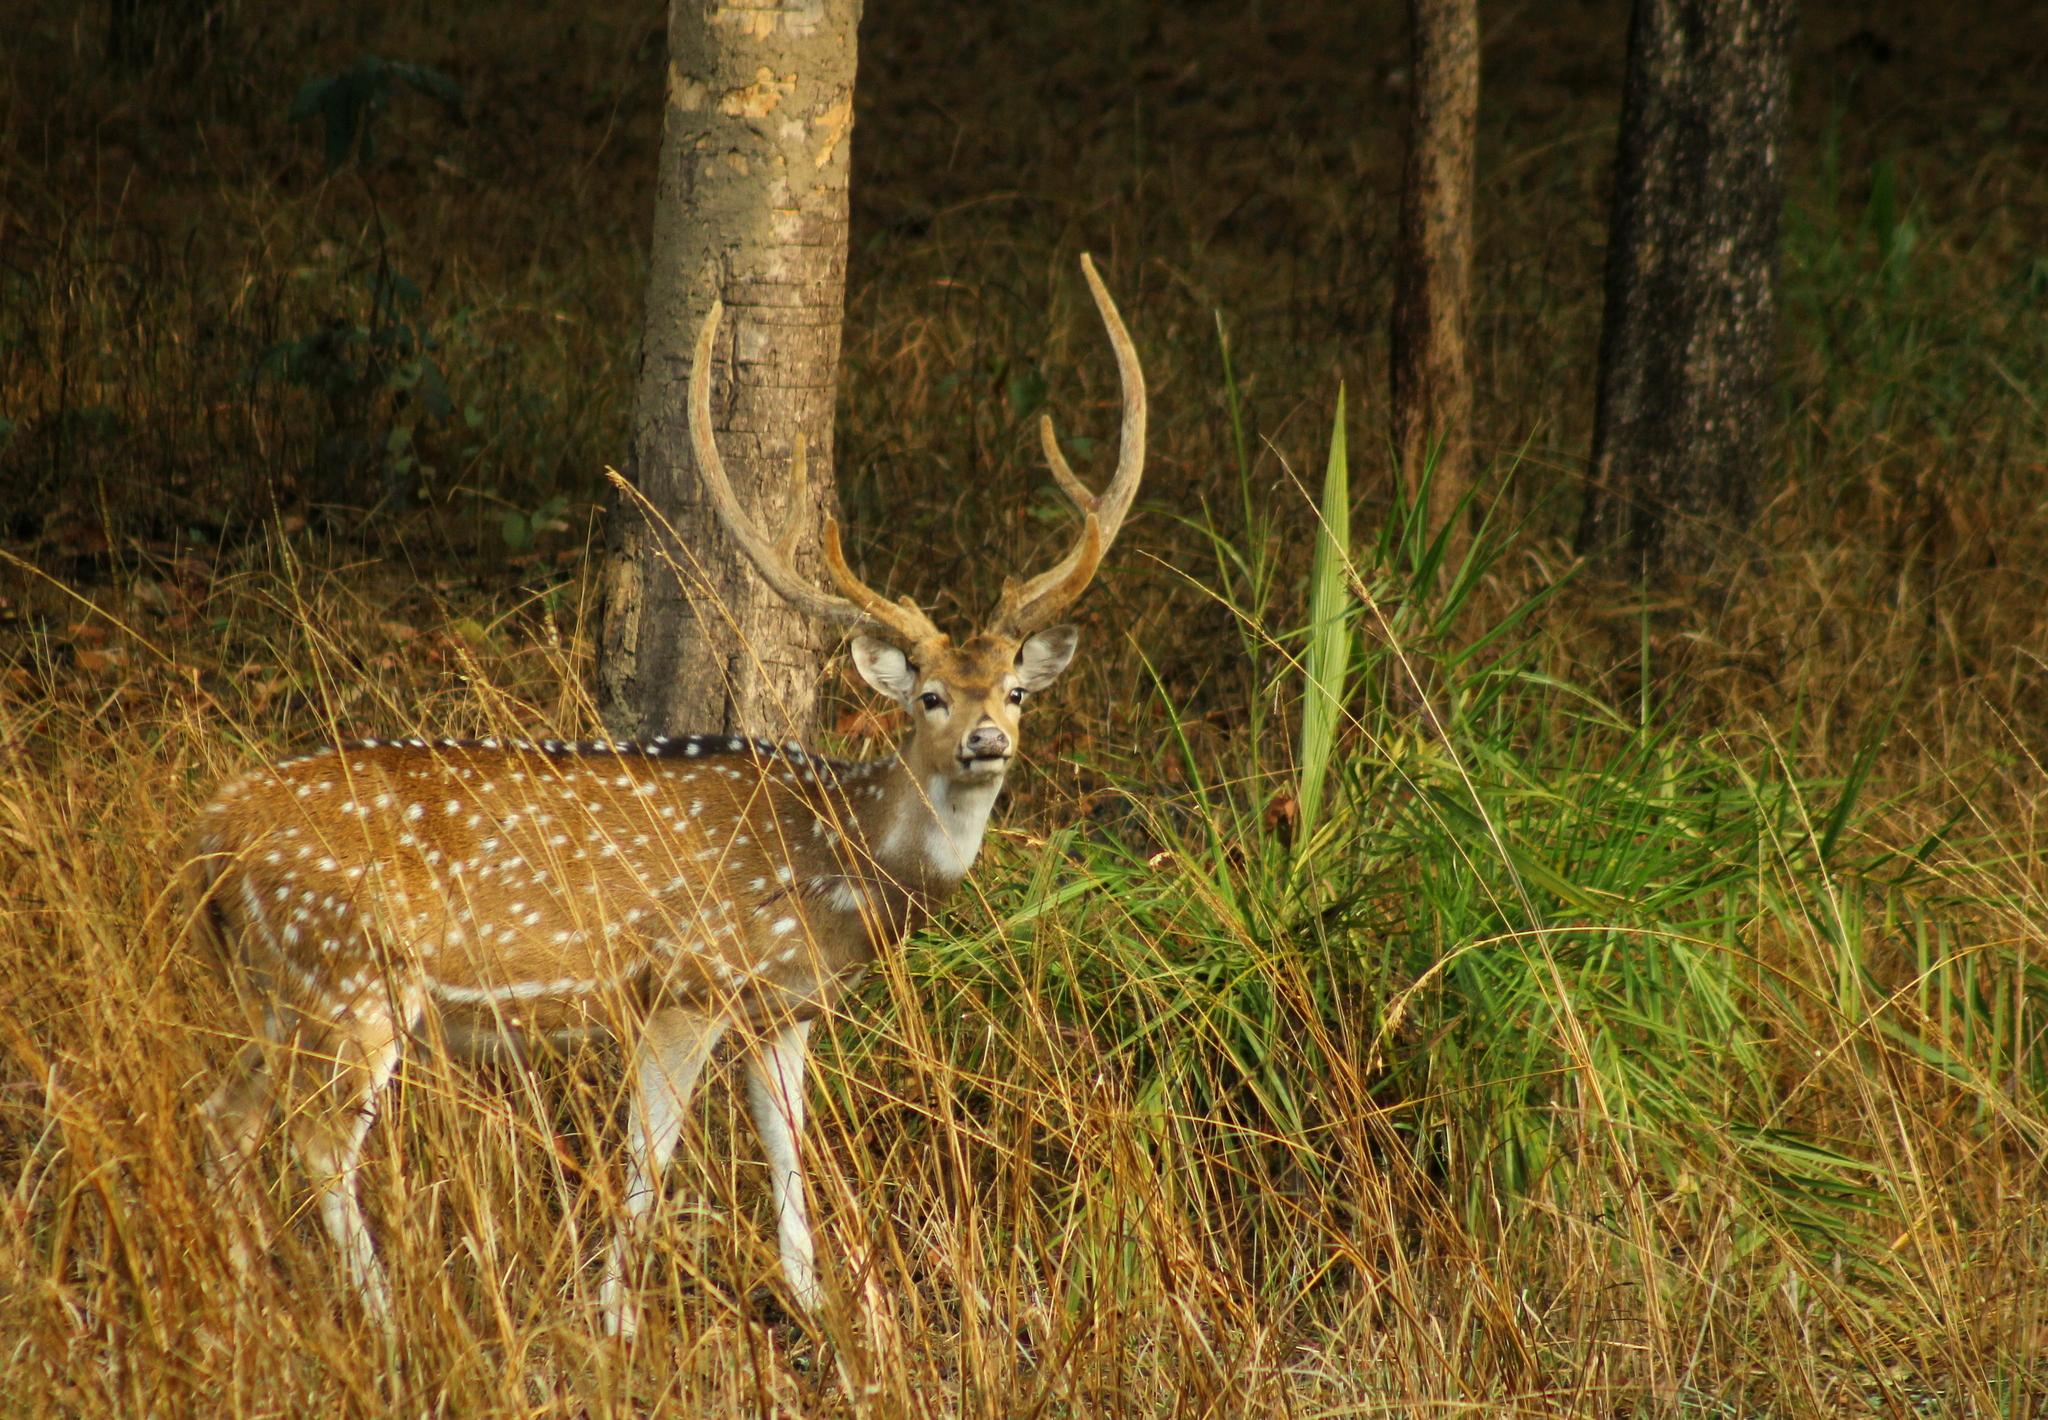Deer: (195, 255, 1144, 1314)
